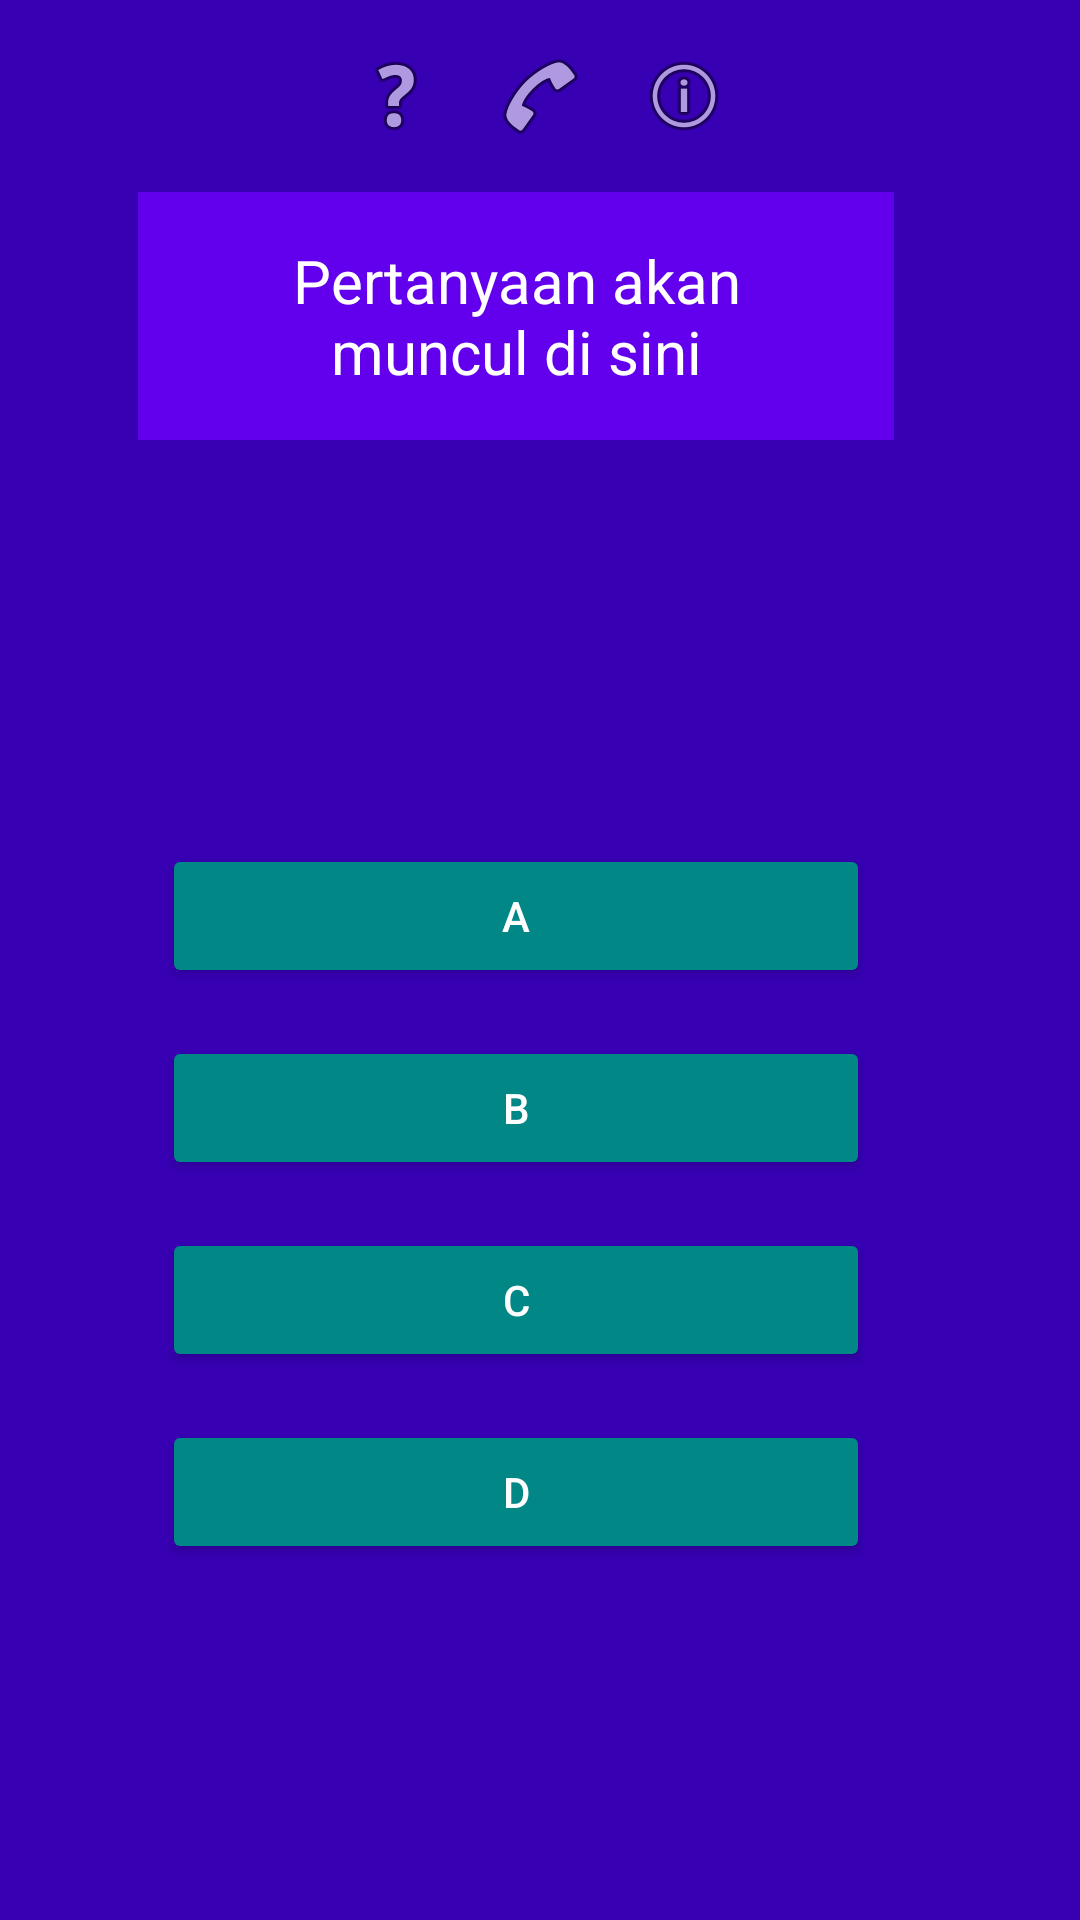

Point at icon controls on the screen. Image size 1080*1920, points as point (x, y).
help: point (396, 96)
Phone a Friend: point (540, 96)
